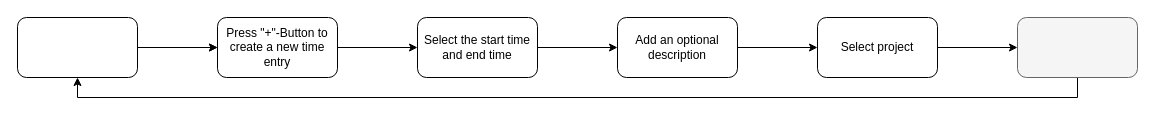
This 1155x123 diagram has some shape labels left out. Here are the shapes that lost their labels. From the top down, the centre of each, then its label:
(x=77, y=47): Navigate to tim entry list screen
(x=1077, y=47): Press "Submit"-Button to save the time entry
